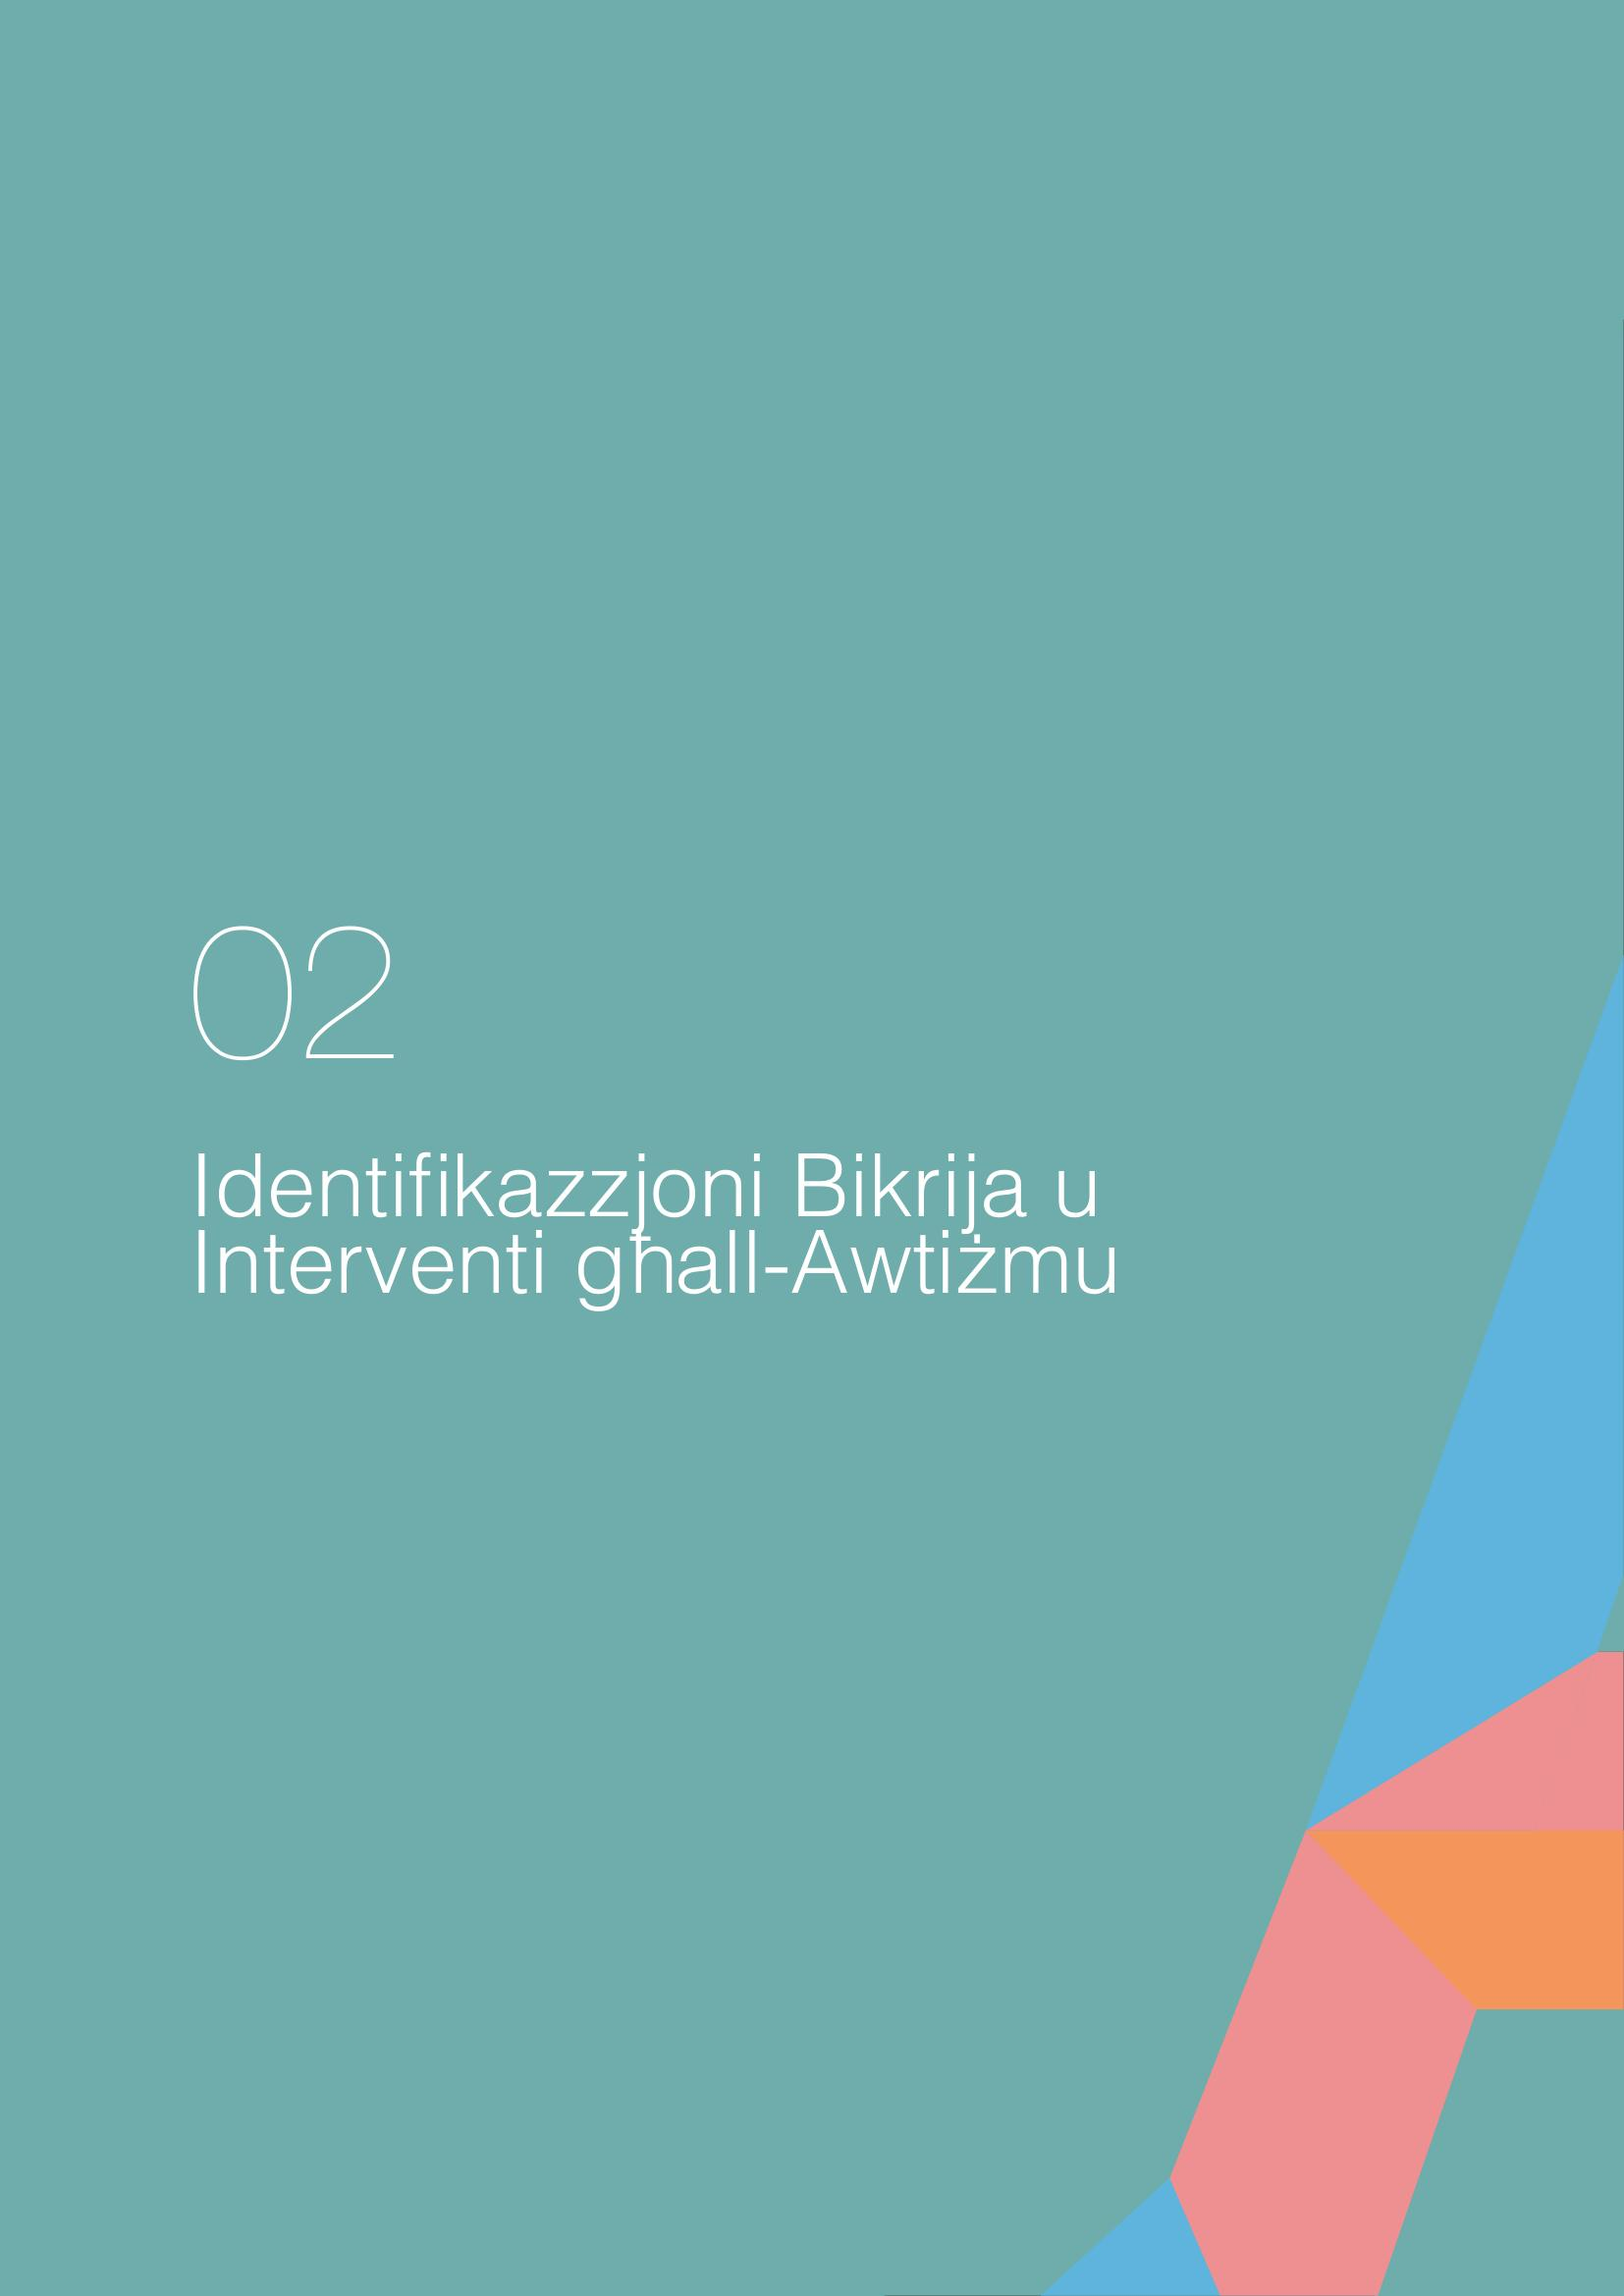text: (144, 899, 1130, 1325)
